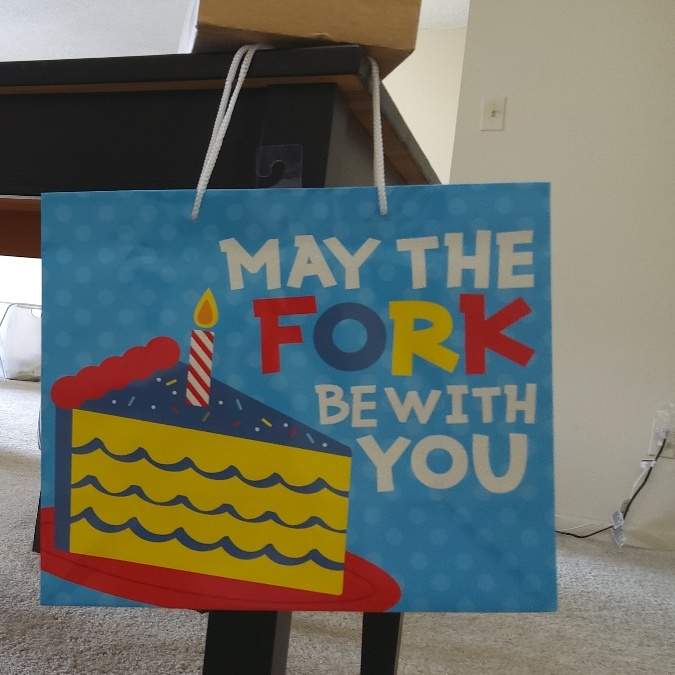paper_bag: (46, 198, 543, 605)
